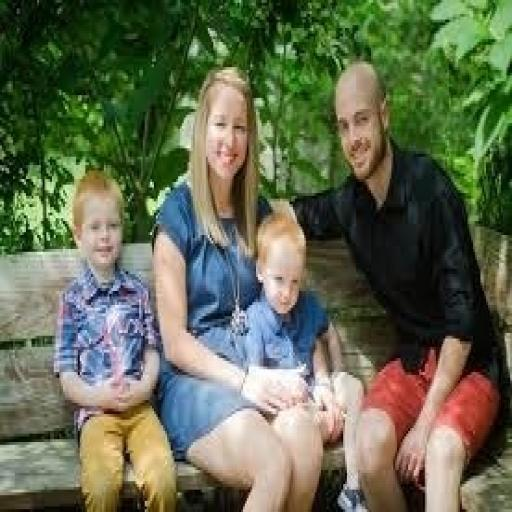sitting: (50, 54, 505, 506), (286, 56, 506, 509), (150, 62, 345, 509), (52, 165, 178, 509)
